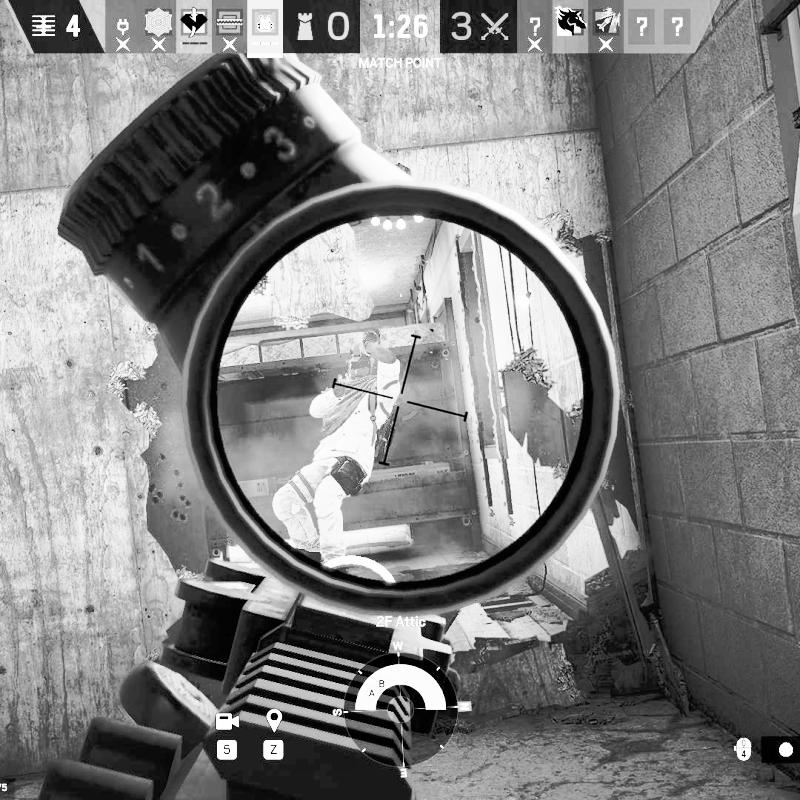Character: (271, 325, 406, 575)
Head: (348, 351, 372, 379)
